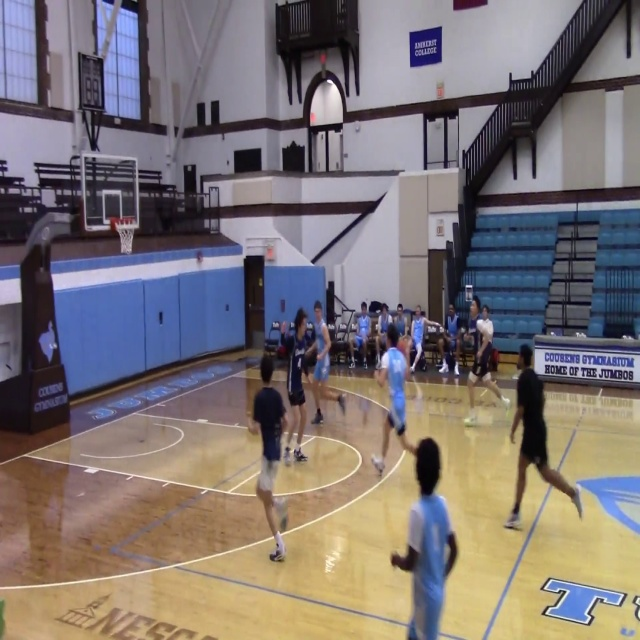Basketball: (397, 335, 413, 357)
